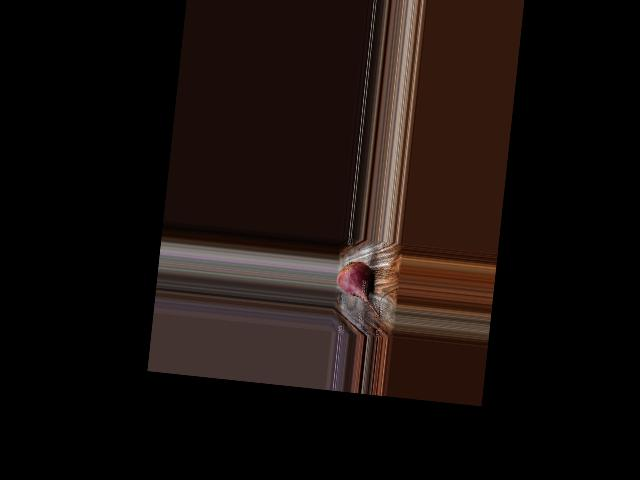beet: (334, 260, 385, 317)
